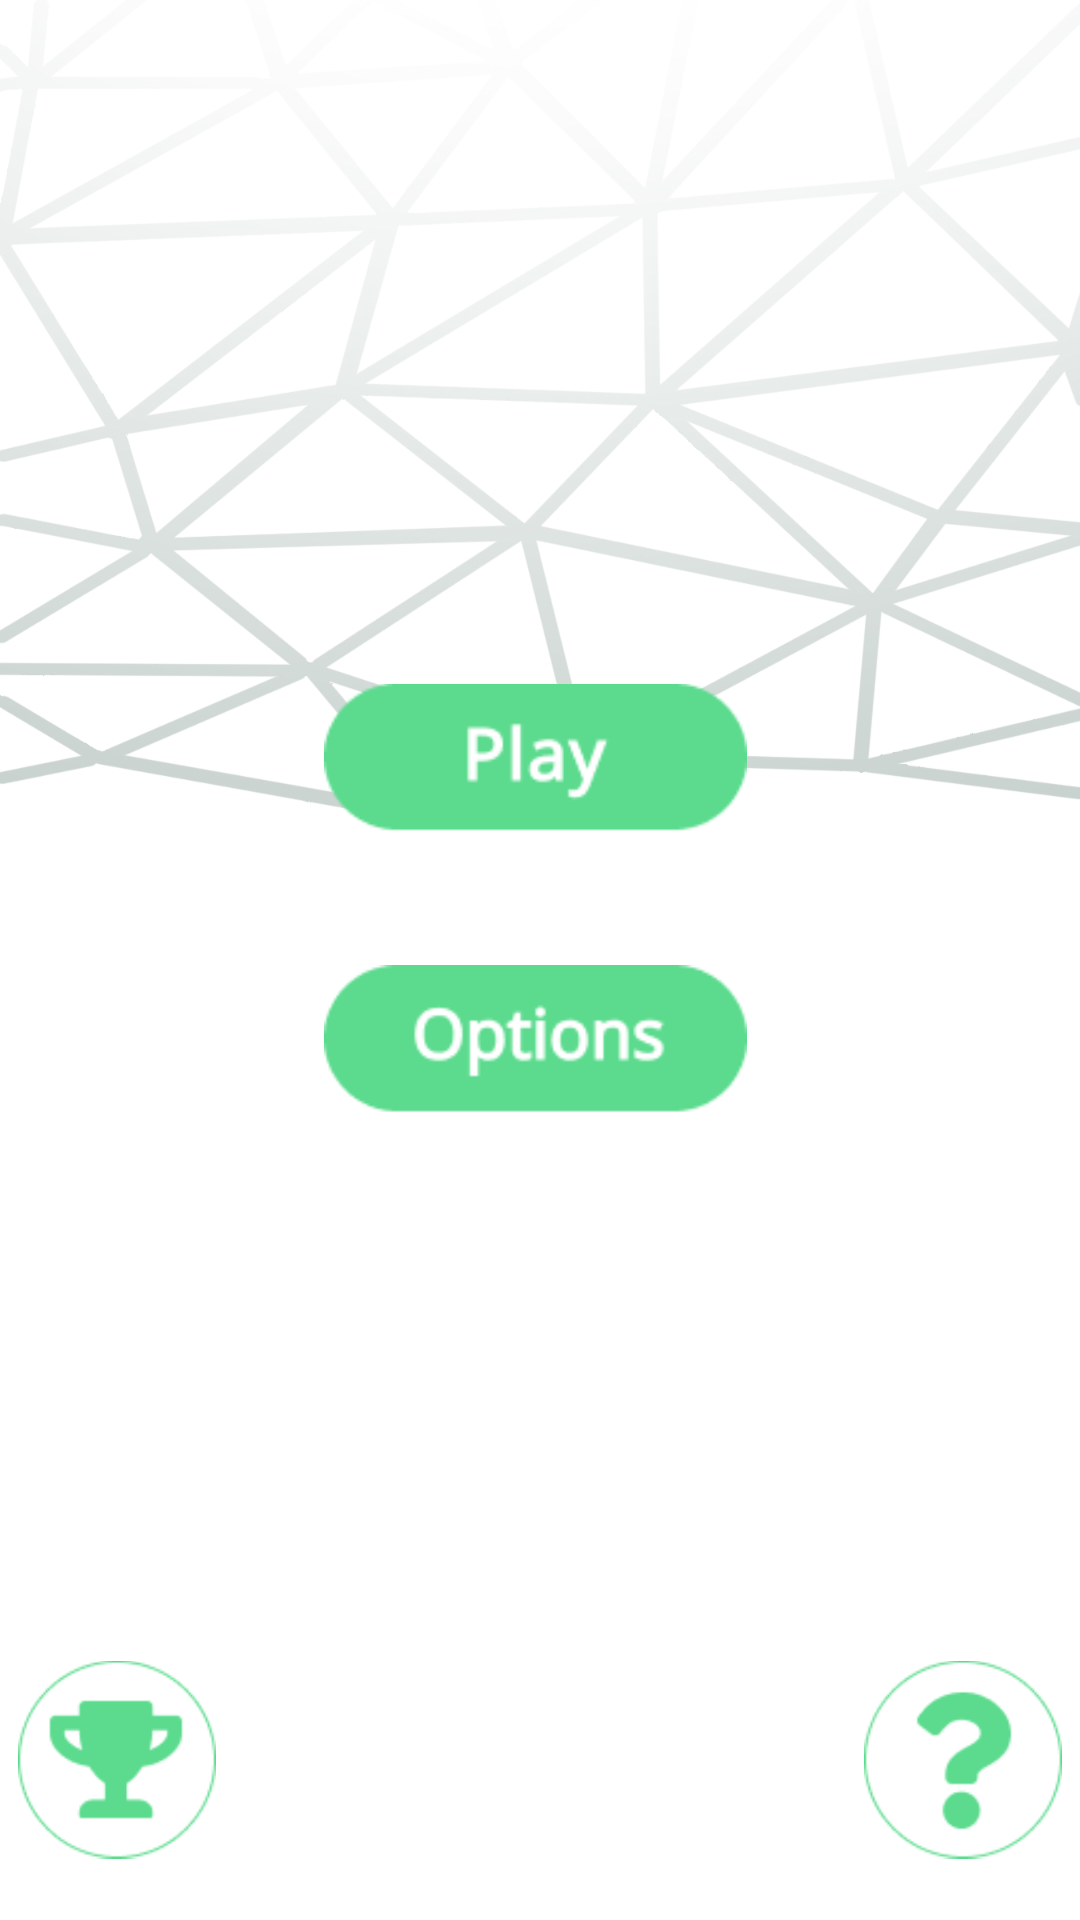

Screen size 1080px x 1920px. Icon name, then its box in pixels as (x1, y1, x2, y2):
help: (864, 1661, 1062, 1859)
highscores: (18, 1661, 216, 1859)
